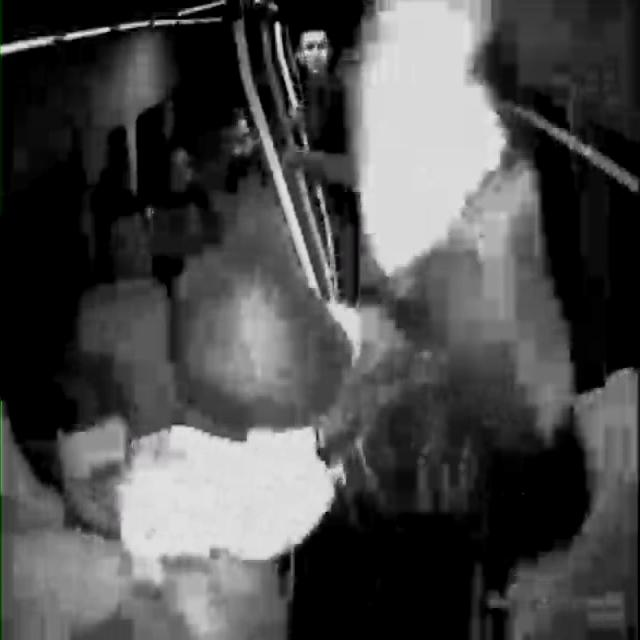fight: (70, 151, 410, 636)
